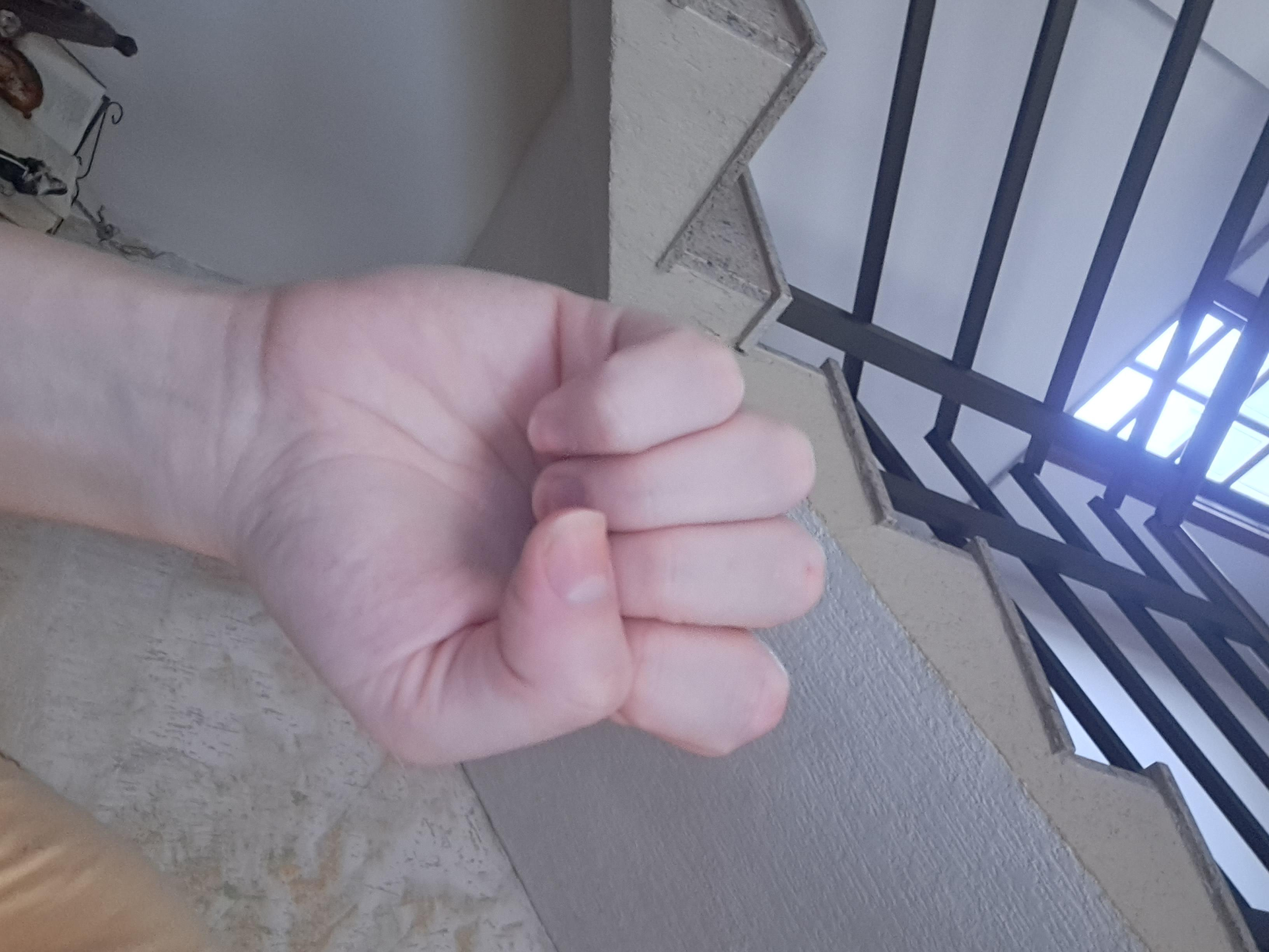S: (327, 335, 1058, 776)
